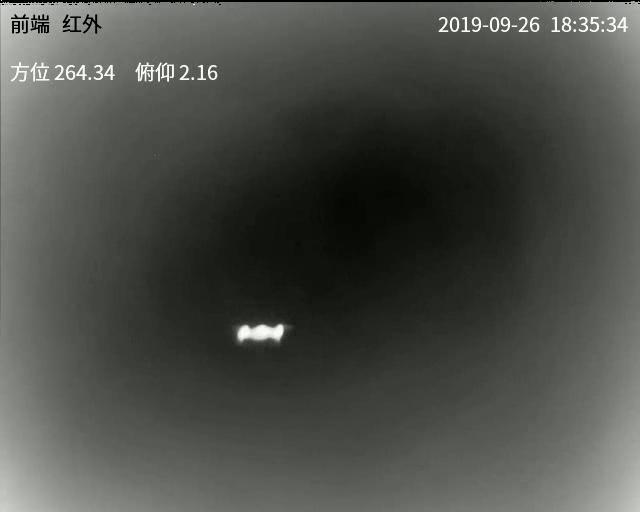DRONE: (235, 321, 285, 344)
